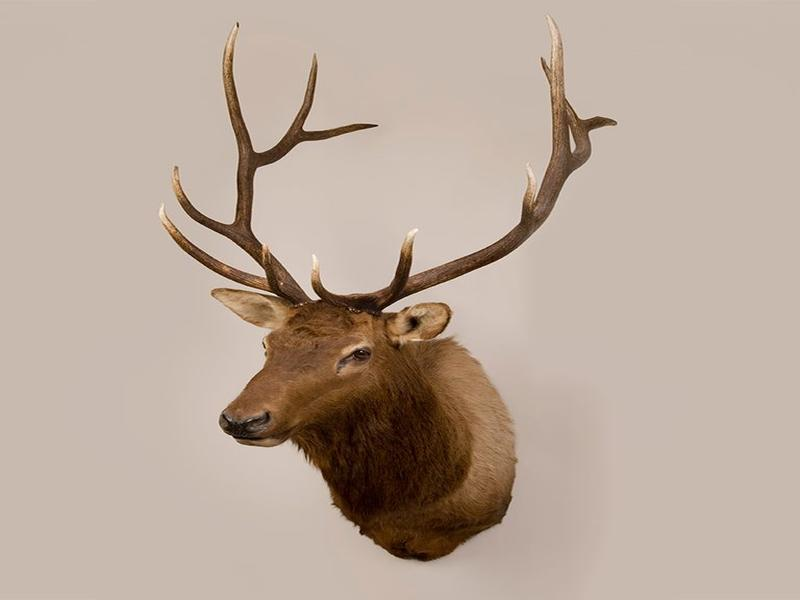elk: (180, 60, 618, 564)
